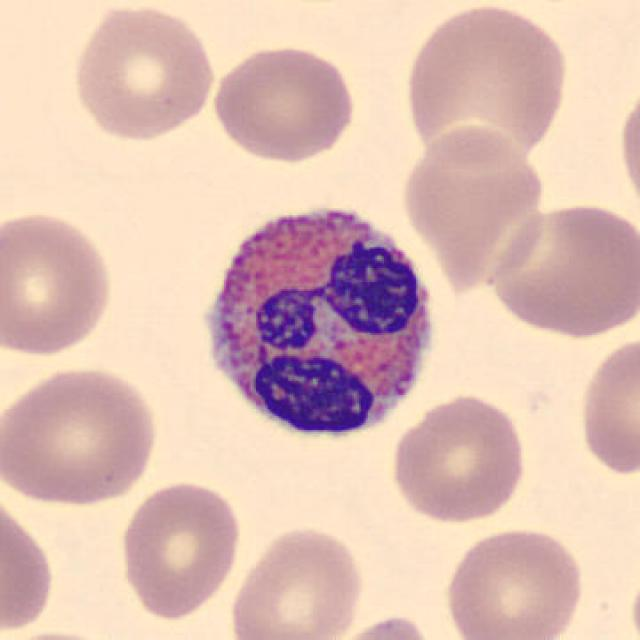Eosinophil: (185, 189, 448, 455)
RBC: (400, 0, 572, 171), (396, 119, 549, 292), (2, 362, 162, 509), (482, 198, 638, 340), (68, 1, 218, 144), (386, 390, 530, 526), (116, 476, 246, 622), (208, 41, 357, 164), (0, 206, 117, 359), (440, 523, 588, 640), (224, 522, 368, 640), (574, 332, 640, 479), (0, 486, 60, 636), (613, 78, 640, 222), (322, 612, 442, 640), (0, 626, 135, 640), (627, 552, 640, 640)
